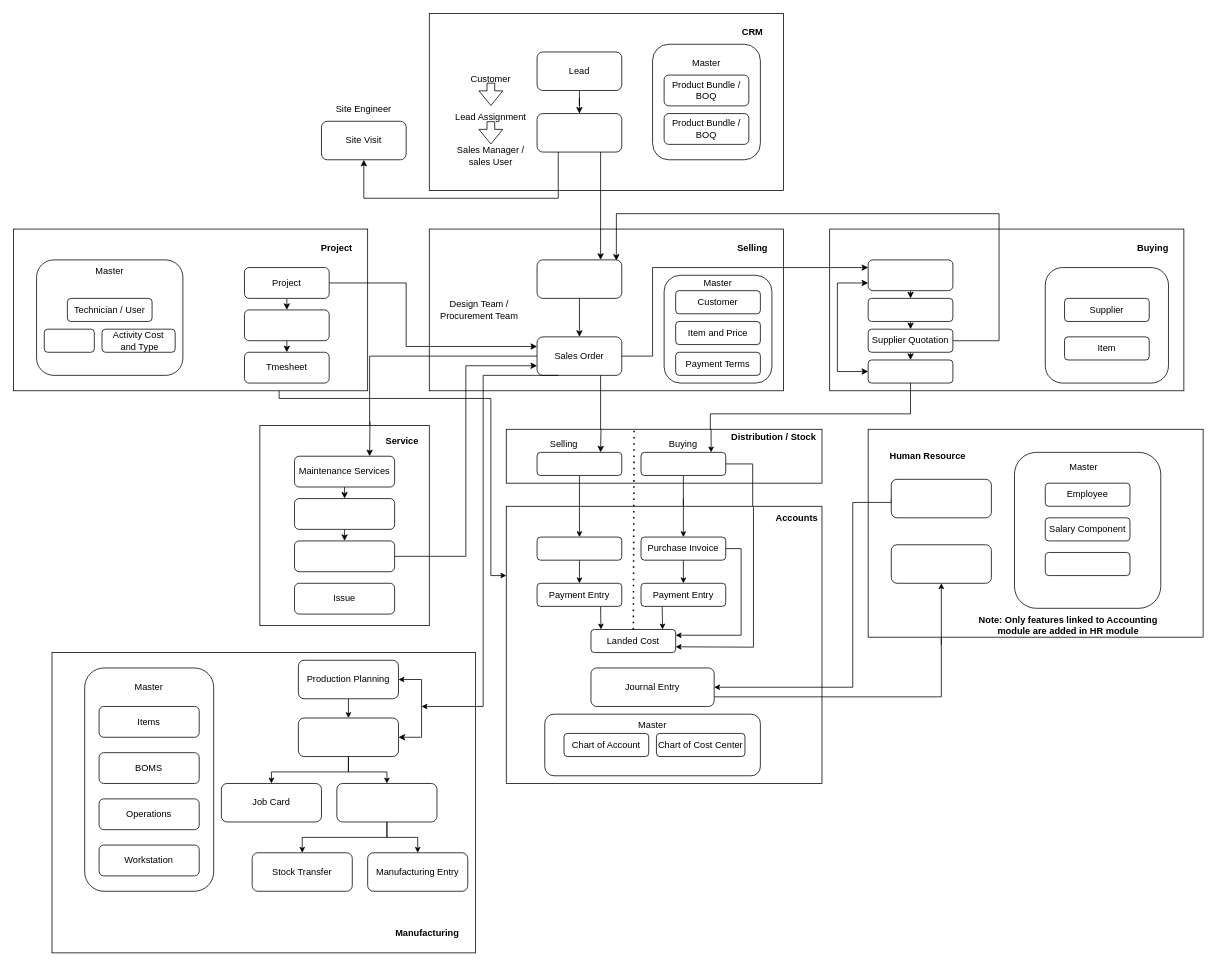
The diagram is 1217 pixels wide and 966 high, and some of its shapes have lost their labels. Each missing label, with the centre of its shape:
"Delivery Note" goes at point 579,463.
"Expense" goes at point 941,563.
"Lead as Opportunity" goes at point 579,132.
"Maintenance Visit" goes at point 344,513.
"Material Request" goes at point 910,275.
"Payroll Entry" goes at point 941,498.
"Purchase Order" goes at point 910,371.
"Purchase Receipt" goes at point 683,463.
"Quotation" goes at point 579,278.
"RFQ" goes at point 910,309.
"Salary Structure" goes at point 1087,564.
"Sales Invoice" goes at point 579,548.
"Stock Exchange" goes at point 386,802.
"Task" goes at point 286,325.
"Task Type" goes at point 69,340.
"Warranty Claim" goes at point 344,556.
"Work Order" goes at point 348,737.
